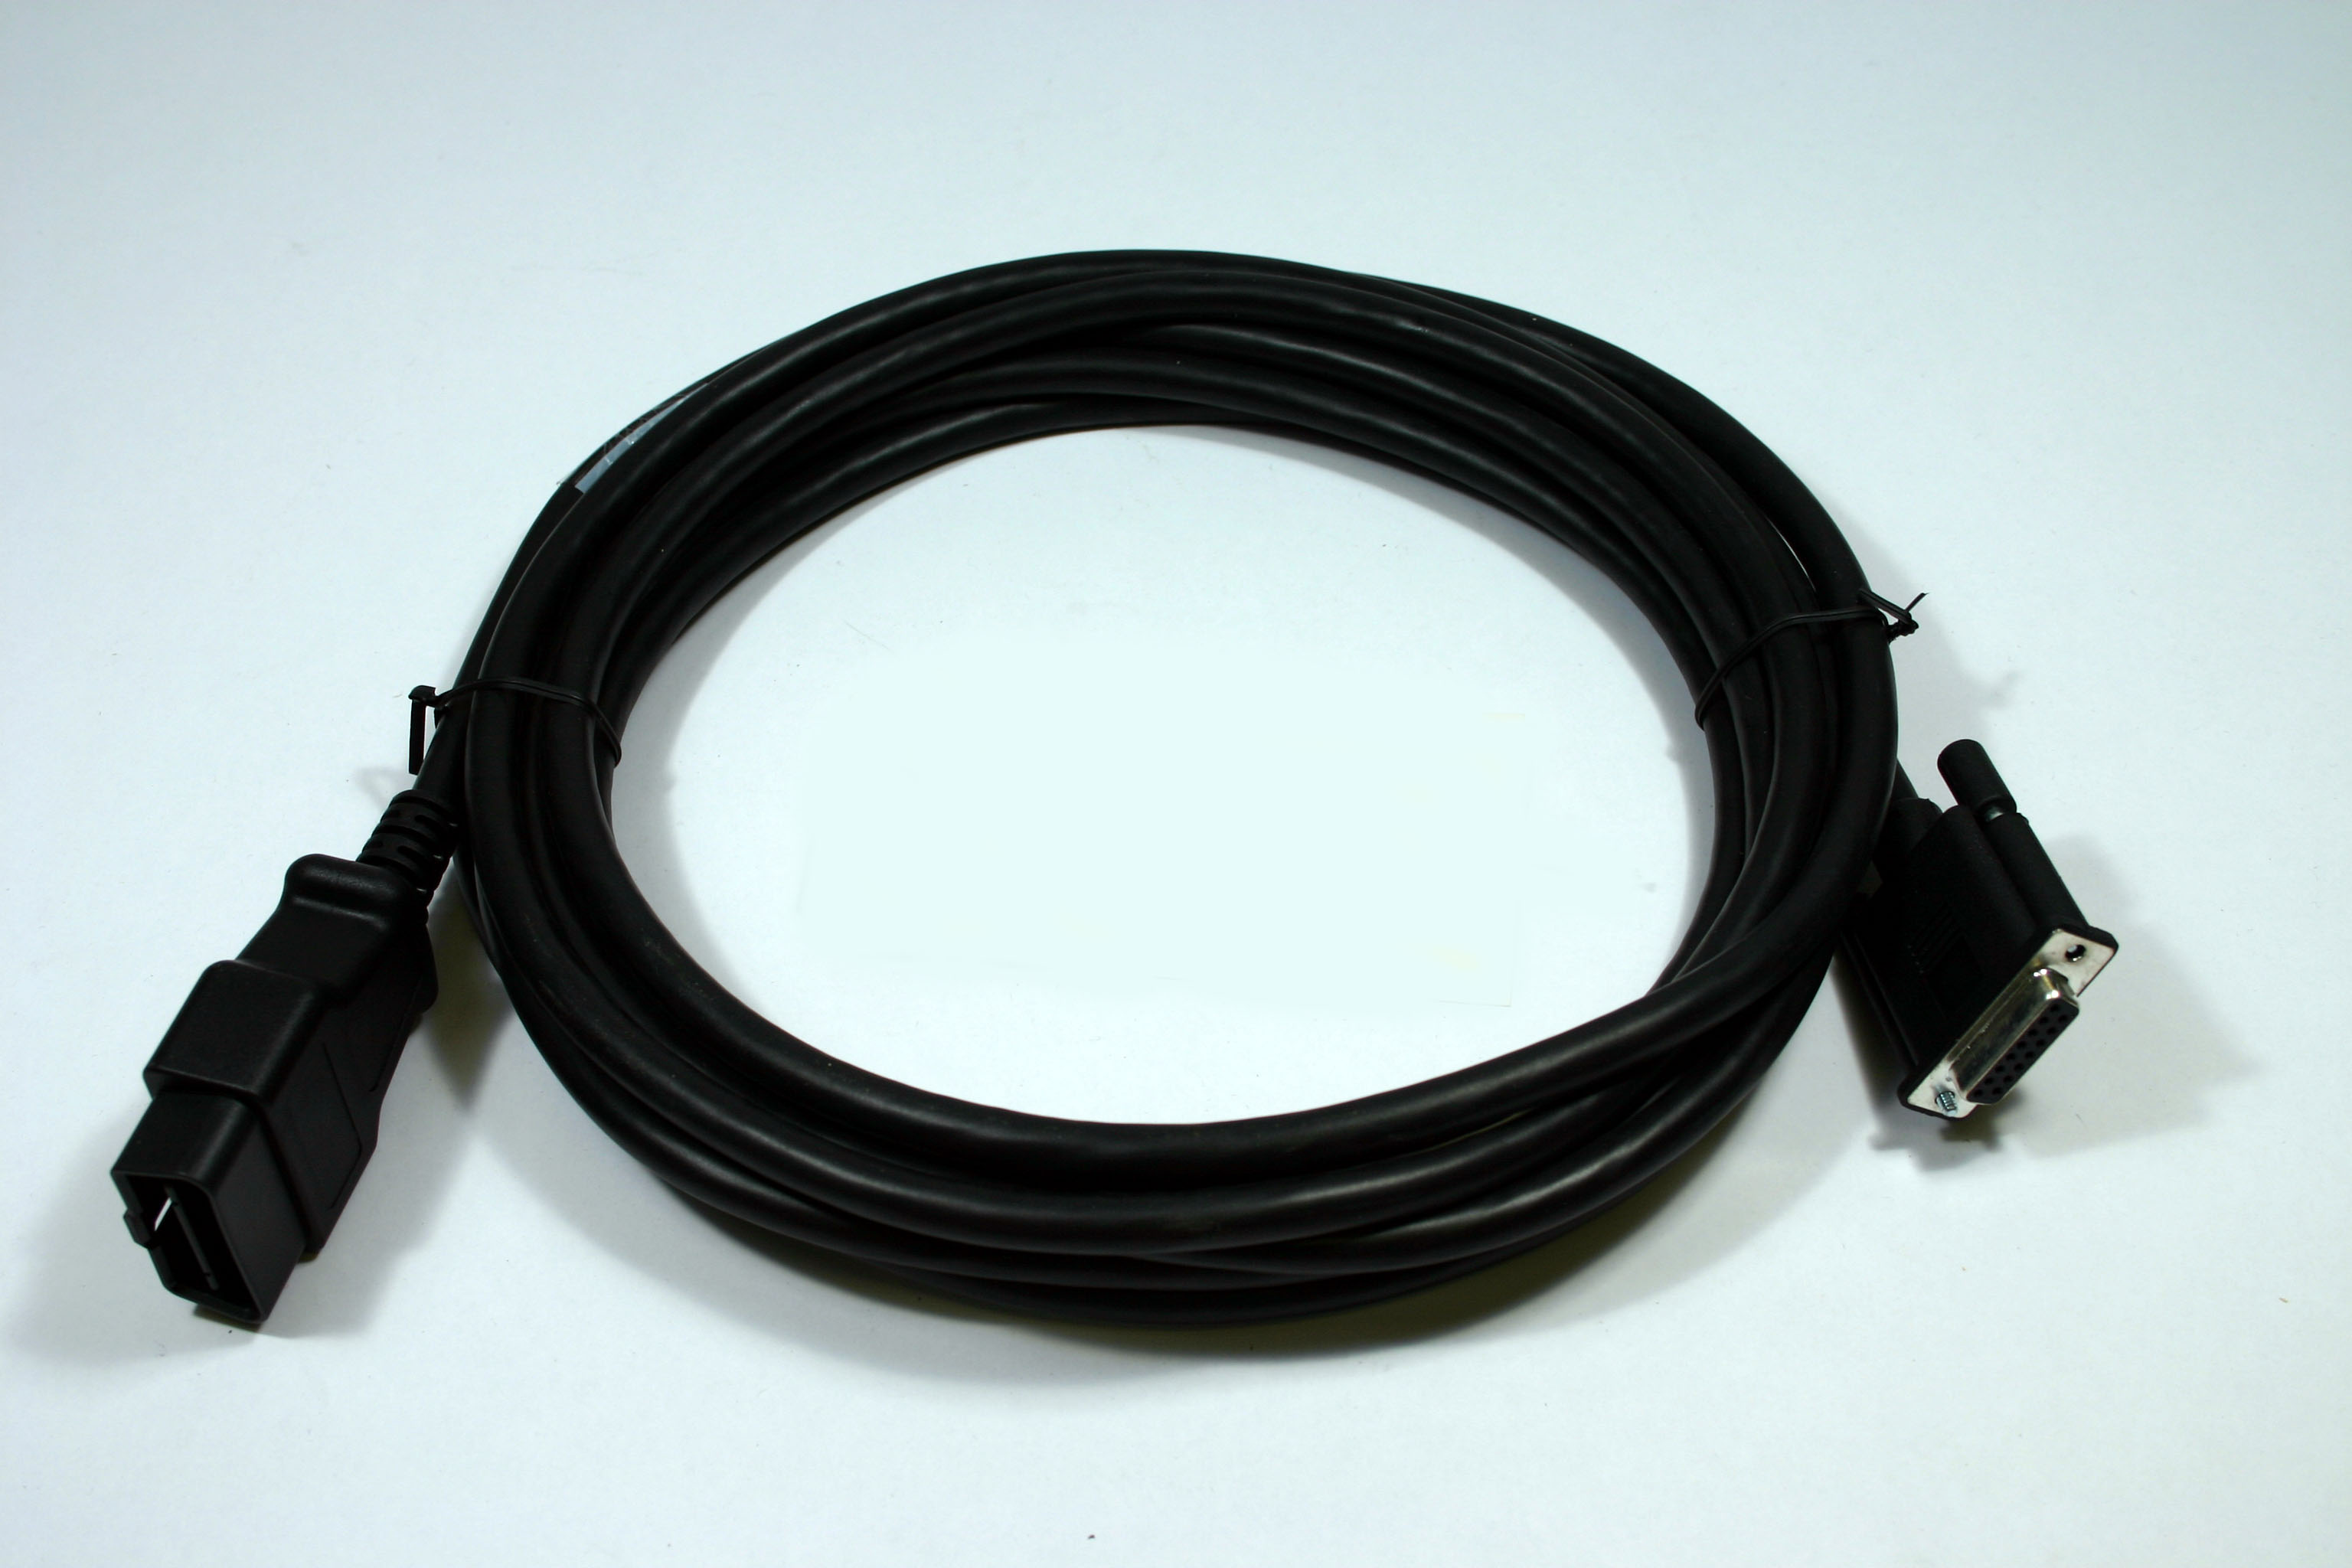Nonrec_Tangler: (0, 222, 2207, 1368)
